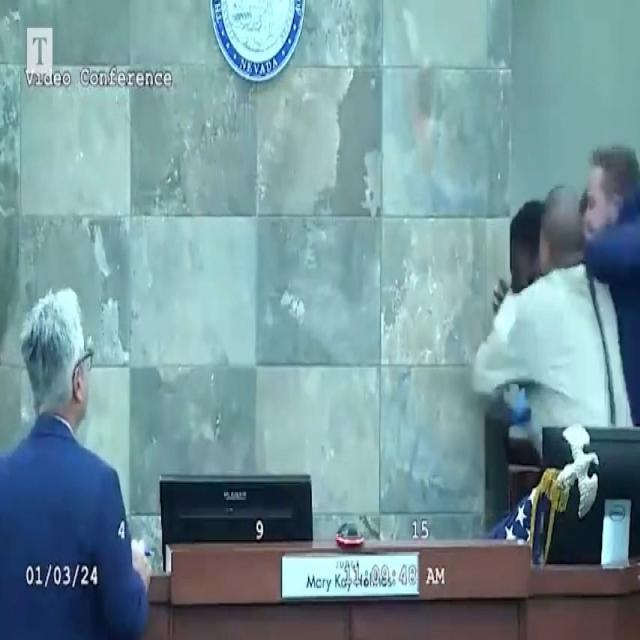fight: (472, 135, 640, 540)
non-fight: (0, 284, 152, 638)
